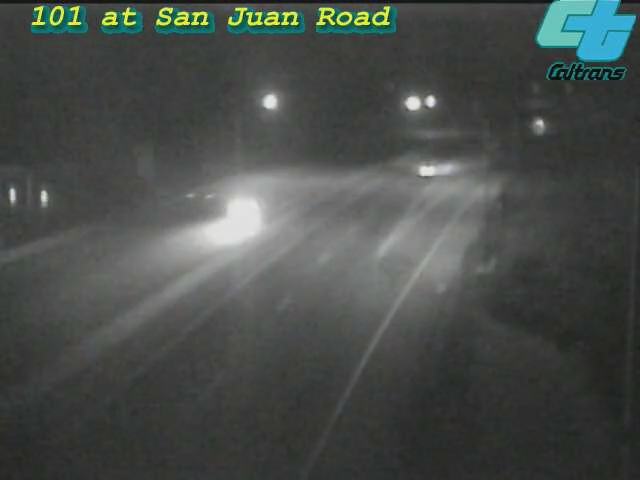vehicle: (197, 173, 277, 253), (389, 128, 469, 208), (517, 101, 567, 151)
